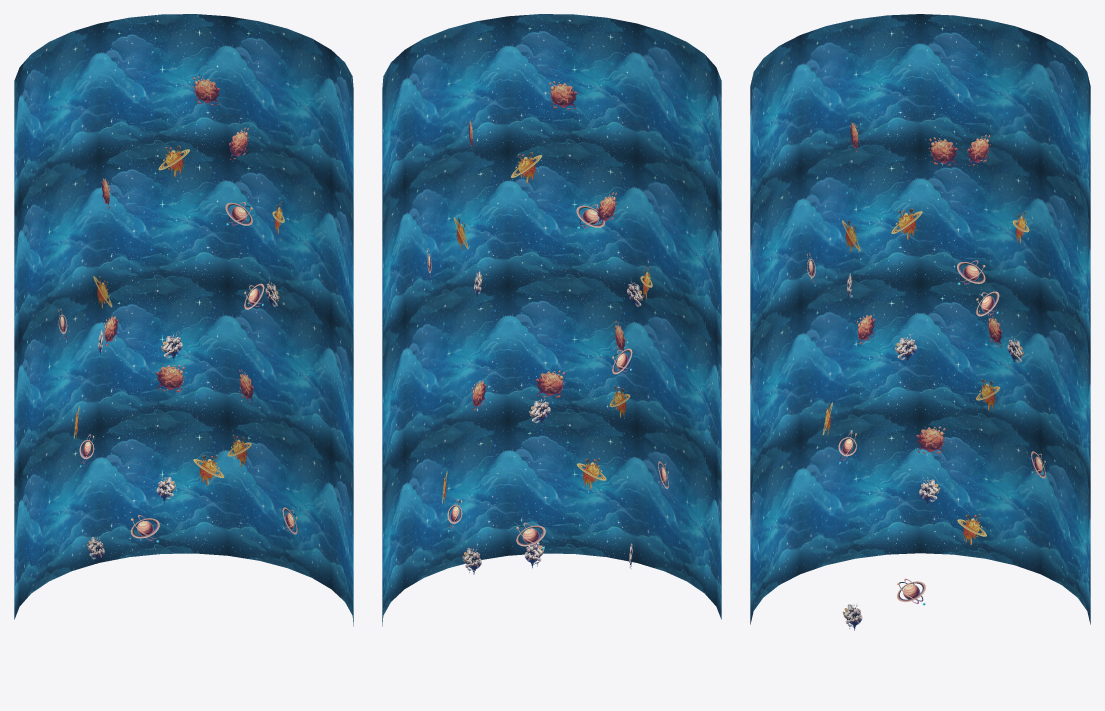
Rendered from sky.gltf.
3 renders of one model, left to right at view 1: azimuth 30°, elevation 25°; view 2: azimuth 150°, elevation 25°; view 3: azimuth 270°, elevation 25°, orthographic.
Parts seen in each view (by area): view 1: background, Plane.011, Plane.023; view 2: background, Plane.007, Plane.019; view 3: background, Plane.003, Plane.015.
Boxes of the visible parts, x1=… form: background: x1=14, y1=14, x2=353, y2=626; Plane.011: x1=156, y1=364, x2=185, y2=391; Plane.023: x1=192, y1=76, x2=220, y2=105; background: x1=382, y1=14, x2=721, y2=626; Plane.007: x1=535, y1=370, x2=565, y2=397; Plane.019: x1=548, y1=81, x2=577, y2=109; background: x1=750, y1=14, x2=1090, y2=624; Plane.003: x1=916, y1=426, x2=945, y2=453; Plane.015: x1=928, y1=137, x2=957, y2=165.
Size of the model in its own units: 264 by 461 by 264.
Materials: 2 (2 with a texture image).
